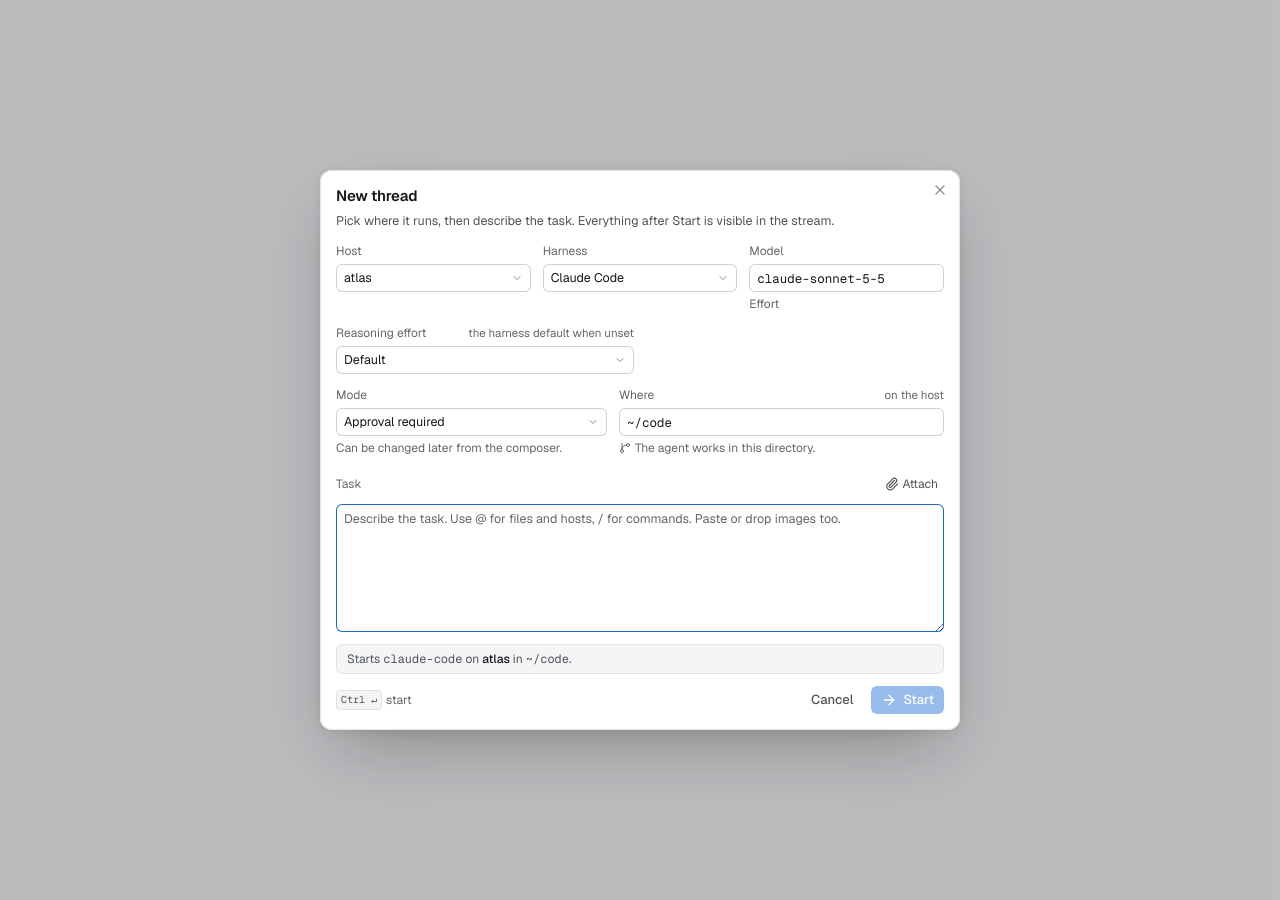
it: NewThreadDialog drafts › falls back to the daemon's cached models when the probe answer carries an error
Press the mouse on the button with aria-label "Harness: Claude Code" at (640, 278), box 543,264 -> 737,292
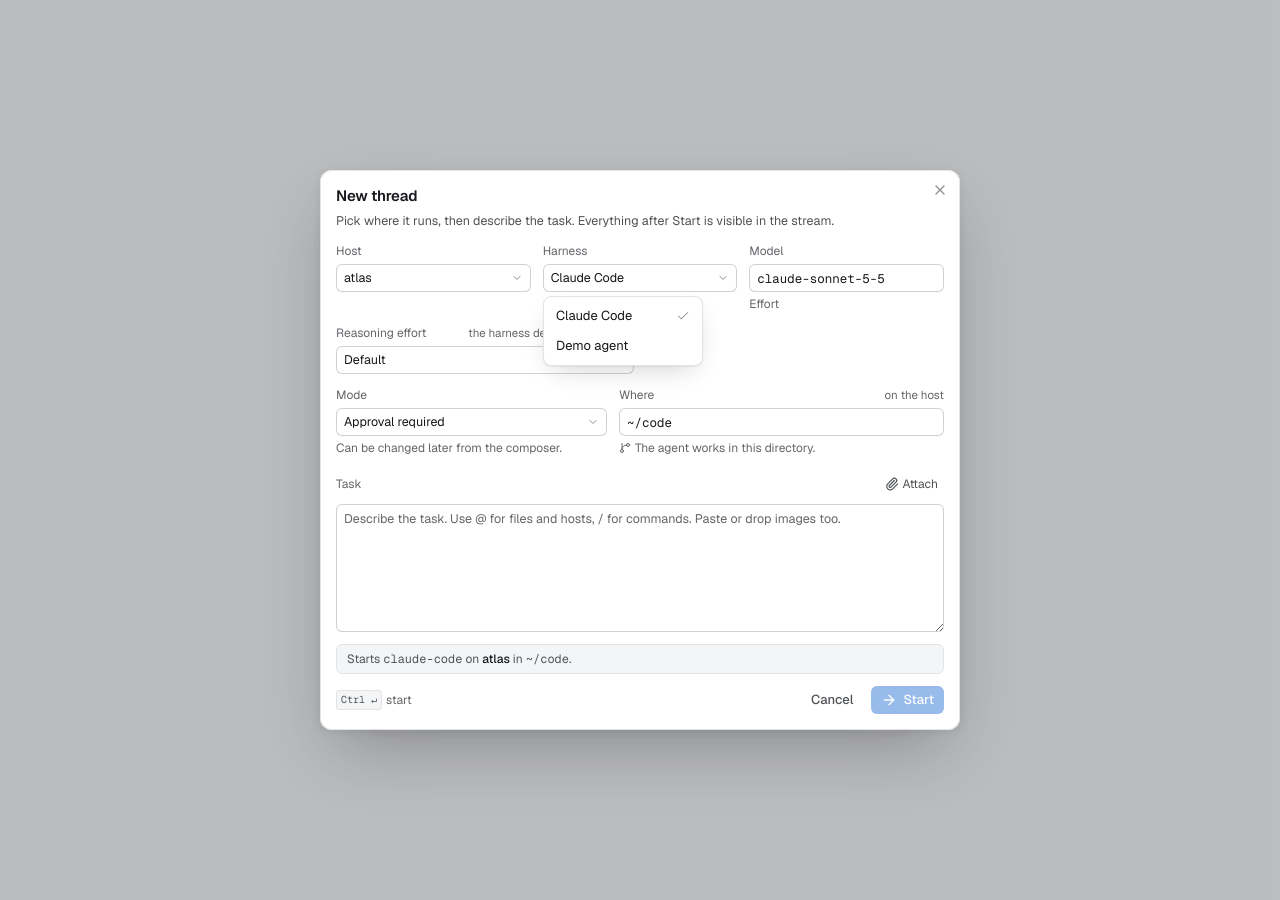
Click the menu item "Demo agent" at (592, 346), box 556,337 -> 628,354
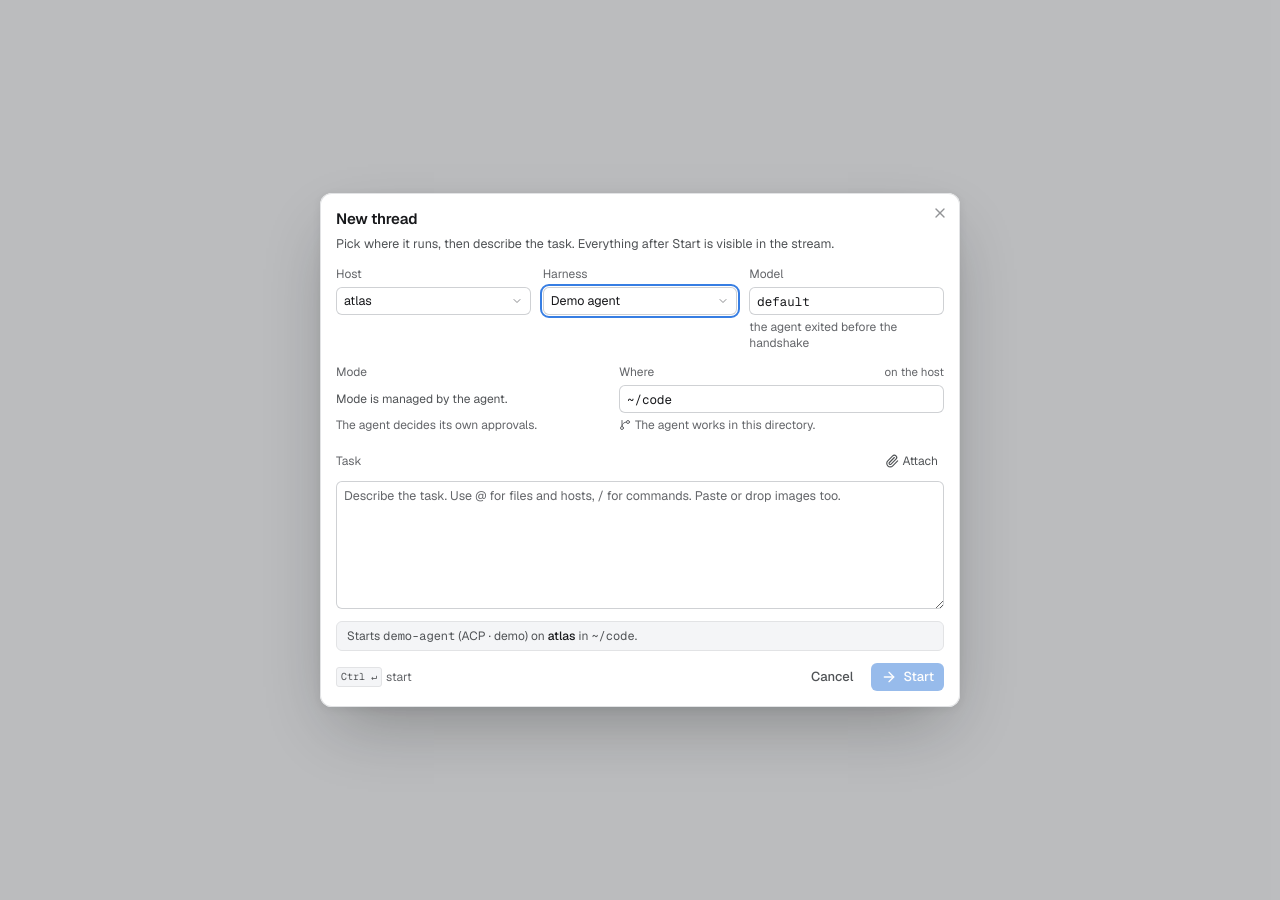
Expected: the button with aria-label "Harness: Demo agent" is shown, 543,287 -> 737,315
Expected: the text "the agent exited before the handshake" is shown, 749,319 -> 897,351
